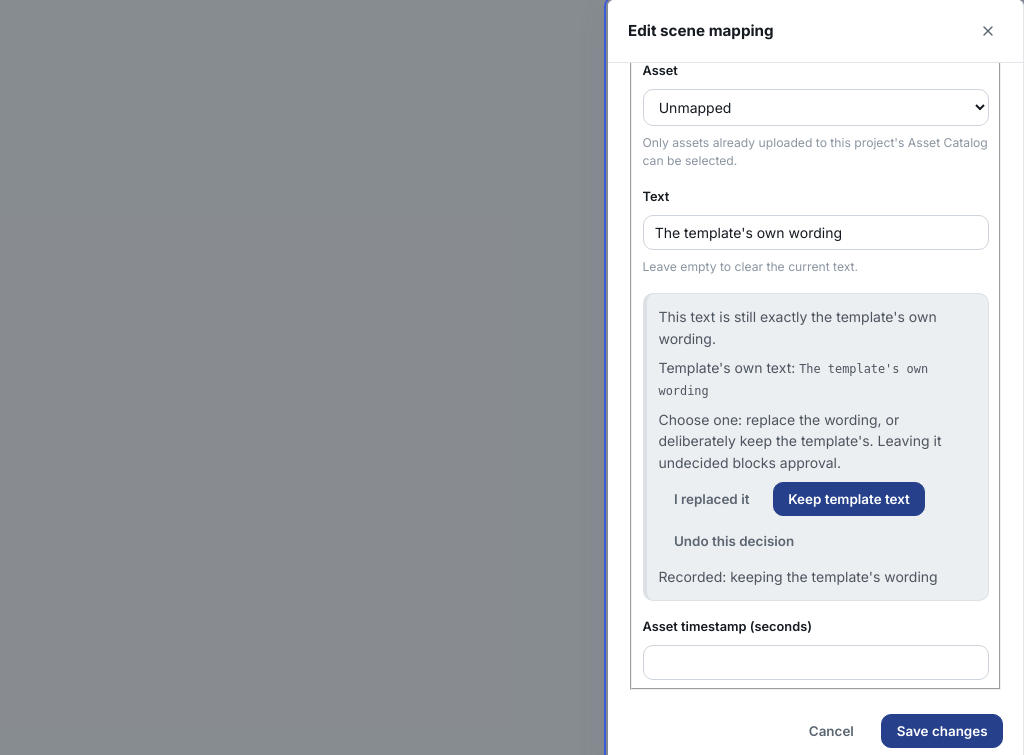
Scenario: SceneEditDrawer - a decision is only 'recorded' once the plan holds it › reads a template-copy decision the plan already holds as recorded, and a re-clicked different one as unsaved
(page scrolled)
Expected: the text "Recorded: keeping the template's wording" is shown, [658,566,976,588]
Step 1. Click the button "I replaced it" → (712, 499), box [658,482,765,516]
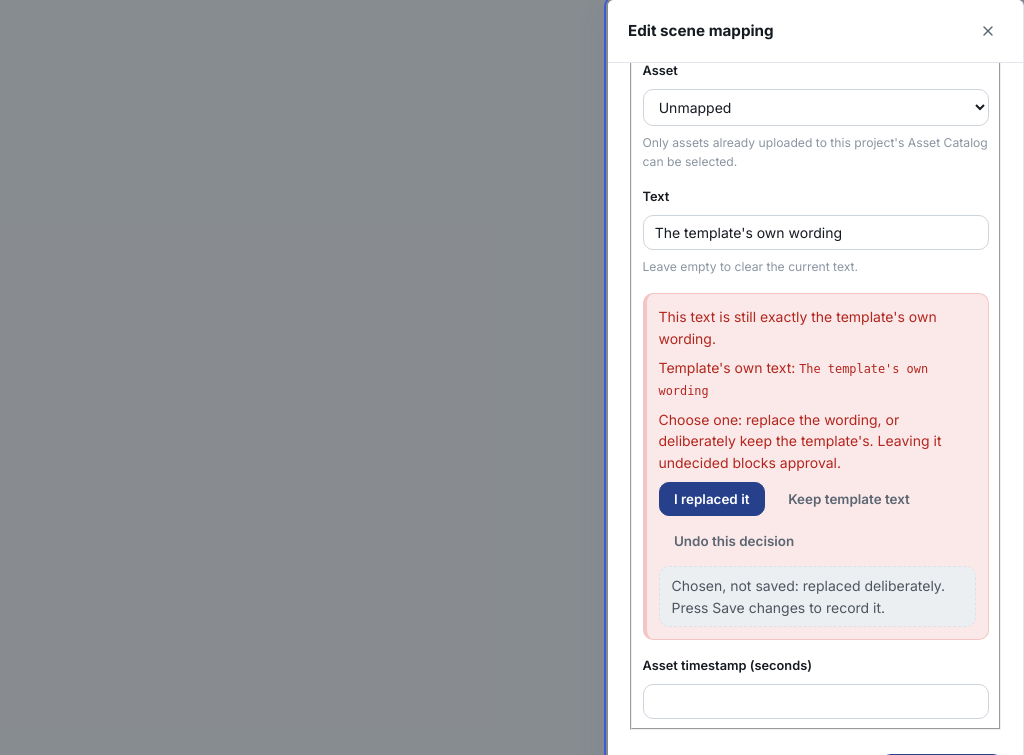
Expected: the text "Chosen, not saved: replaced deliberately" is shown, [672,577,945,616]
Expected: the text "Recorded: keeping the template's wording" is gone
